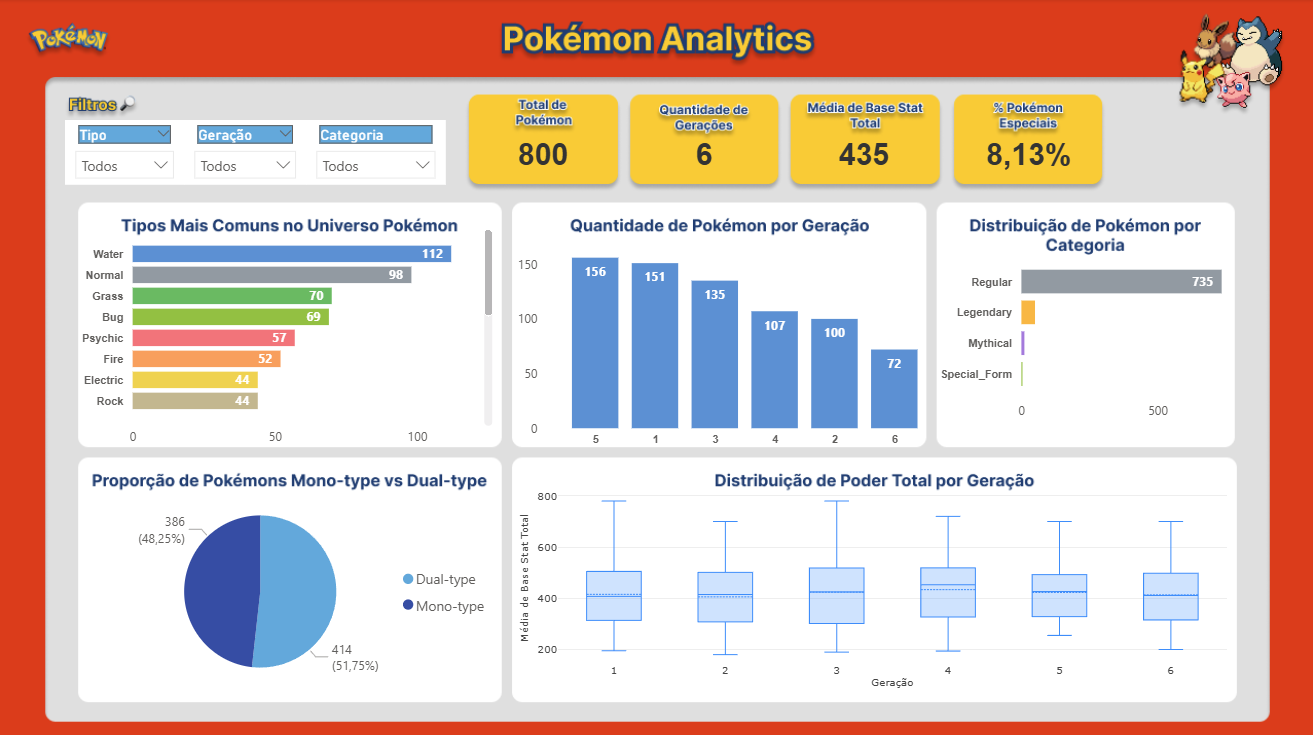

The page's visual inventory and layout, read from the dashboard file:
{"tool":"powerbi","page":{"name":"Dashboard Pokémon - Visão Geral","canvas":[1280,720],"ordinal":0},"visuals":[{"type":"barChart","fields":{"Category":["public pokemon_clean.type_1"],"Y":["CountNonNull(public pokemon_clean.type_1)"],"Series":["public pokemon_clean.type_1"]},"box":[72,211,413,233],"z":0},{"type":"columnChart","fields":{"Category":["public pokemon_clean.generation"],"Y":["Count(public pokemon_clean.pokedex_number)"]},"box":[499,211.1,424.1,233.4],"z":1000},{"type":"slicer","fields":{"Values":["public pokemon_clean.type_1"]},"box":[64,118,116,63],"z":2000},{"type":"slicer","fields":{"Values":["public pokemon_clean.generation"]},"box":[180,118,119,63],"z":3000},{"type":"card","fields":{"Values":["public pokemon_clean.Percentual_Especiais"]},"box":[945,127,113,47],"z":4000},{"type":"card","fields":{"Values":["public pokemon_clean.Total_Pokemons"]},"box":[473,127,113,47],"z":5000},{"type":"card","fields":{"Values":["public pokemon_clean.Total_Geracoes"]},"box":[629,127,113,47],"z":6000},{"type":"card","fields":{"Values":["public pokemon_clean.Media_Base_Stat"]},"box":[785,127,113,47],"z":7000},{"type":"slicer","fields":{"Values":["public pokemon_clean.special_category"]},"box":[299,118,136,63],"z":8000},{"type":"barChart","fields":{"Category":["public pokemon_clean.special_category"],"Y":["CountNonNull(public pokemon_clean.special_category)"],"Series":["public pokemon_clean.special_category"]},"box":[909,238,312,180],"z":9000},{"type":"pieChart","fields":{"Y":["CountNonNull(public pokemon_clean.mono_or_dual)"],"Category":["public pokemon_clean.mono_or_dual"]},"box":[110.9,468.8,375.4,215],"z":10000},{"type":"boxandwhiskerwithpoints6C29D629F202A5FF5B6B023486584FCA","fields":{"col_0":["public pokemon_clean.generation"],"col_2":["public pokemon_clean.base_stat_total"]},"box":[499,462,710,221.8],"z":11000}]}

Visuals, with their boxes in screenshot pixels (x1, y1, x2, y2), scaled from the page's 1280x720 canvas onto the 1313x735 screenshot:
barChart - public pokemon_clean.type_1 x CountNonNull(public pokemon_clean.type_1): (74, 215, 498, 453)
columnChart - public pokemon_clean.generation x Count(public pokemon_clean.pokedex_number): (512, 215, 947, 454)
slicer - public pokemon_clean.type_1: (66, 120, 185, 185)
slicer - public pokemon_clean.generation: (185, 120, 307, 185)
card - public pokemon_clean.Percentual_Especiais: (969, 130, 1085, 178)
card - public pokemon_clean.Total_Pokemons: (485, 130, 601, 178)
card - public pokemon_clean.Total_Geracoes: (645, 130, 761, 178)
card - public pokemon_clean.Media_Base_Stat: (805, 130, 921, 178)
slicer - public pokemon_clean.special_category: (307, 120, 446, 185)
barChart - public pokemon_clean.special_category x CountNonNull(public pokemon_clean.special_category): (932, 243, 1252, 427)
pieChart - CountNonNull(public pokemon_clean.mono_or_dual) x public pokemon_clean.mono_or_dual: (114, 479, 499, 698)
boxandwhiskerwithpoints6C29D629F202A5FF5B6B023486584FCA - public pokemon_clean.generation x public pokemon_clean.base_stat_total: (512, 472, 1240, 698)
